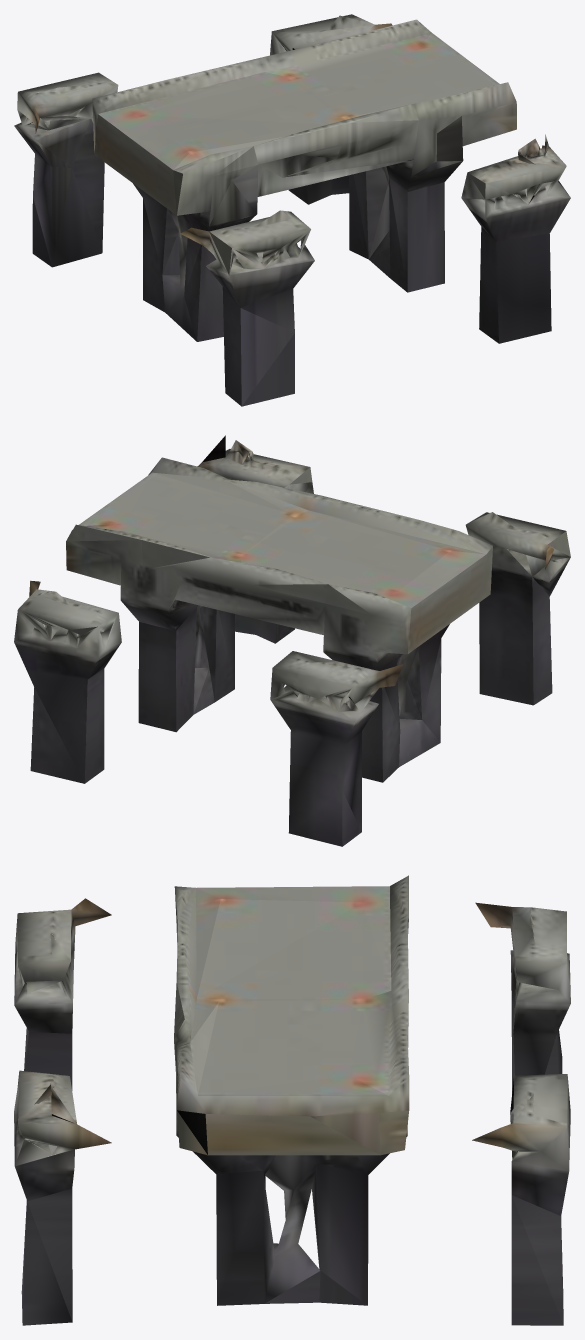
File: prop_bridge_span.glb
3 renders of one model, top to bottom at view 1: azimuth 30°, elevation 25°; view 2: azimuth 150°, elevation 25°; view 3: azimuth 270°, elevation 25°, orthographic. The views are drawn at different scales.
Parts seen in each view (by area): view 1: Mesh_0; view 2: Mesh_0; view 3: Mesh_0.
Boxes of the visible parts, <box> form: Mesh_0: <box>14,14,570,406</box>; Mesh_0: <box>14,435,570,846</box>; Mesh_0: <box>14,875,570,1325</box>.
Size of the model in its own units: 1.98 by 1.03 by 2.01.
Materials: 1 (1 with a texture image).
